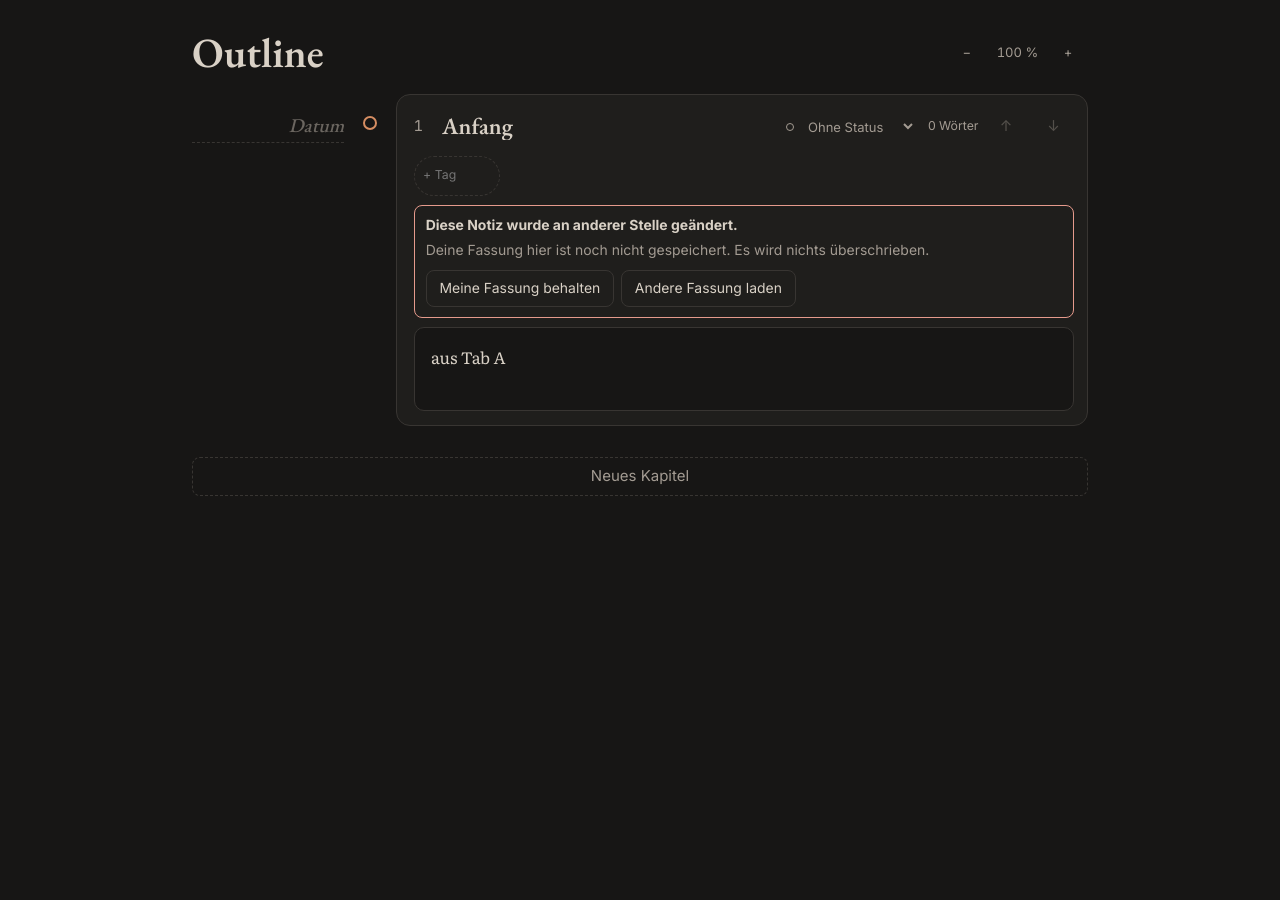
it: a note changed in another tab is never overwritten silently
The width and height of the screenshot is (1280, 900).
Expected: the field named "Notizen zu Anfang" is shown, x1=431 y1=345 x2=506 y2=369
Expected: the text "Diese Notiz wurde an anderer Stelle geändert." is shown, x1=426 y1=216 x2=738 y2=233
Click the button "Andere Fassung laden".
click(708, 288)  # box x1=621 y1=270 x2=796 y2=307
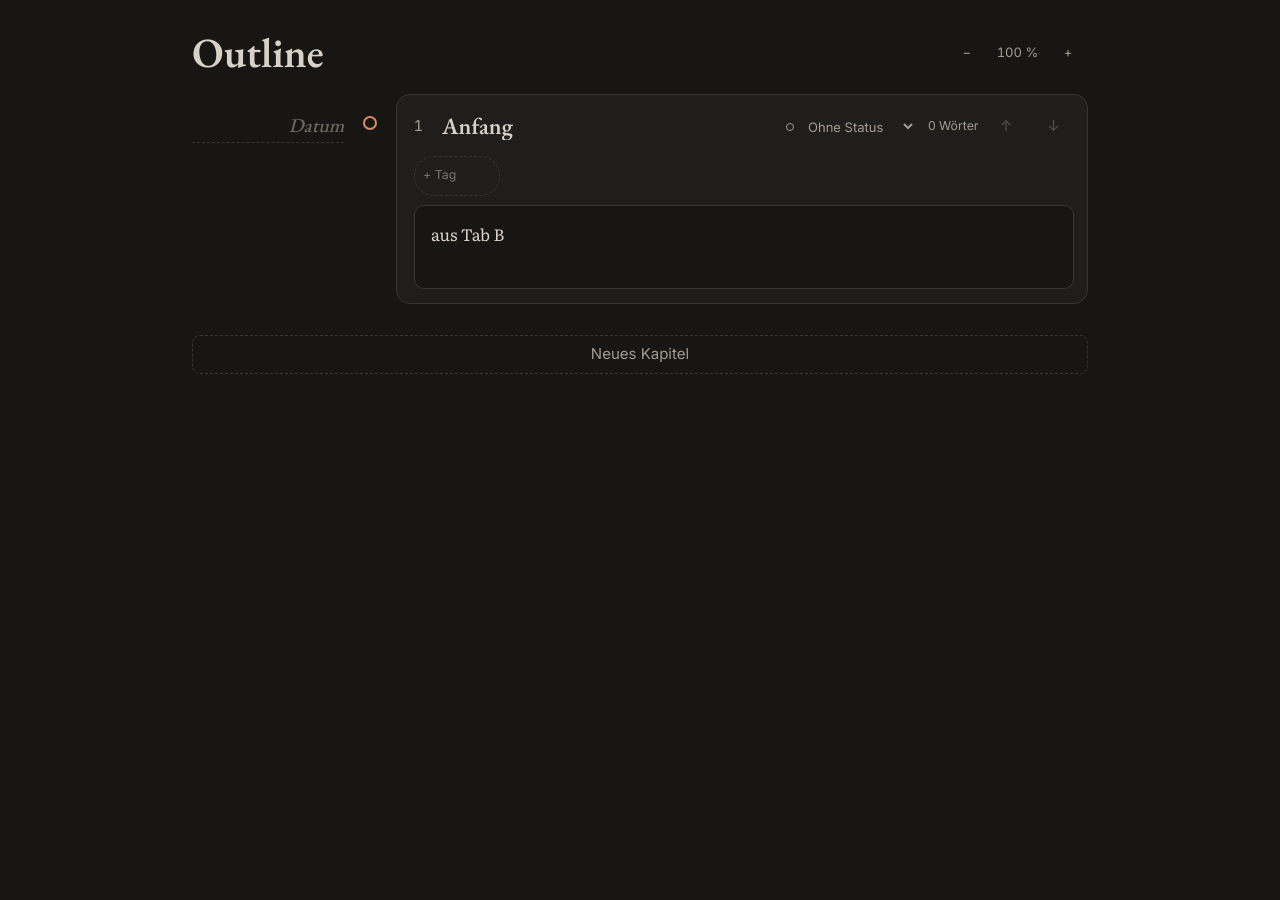
Expected: the text box labelled "aus Tab B" is shown, x1=431 y1=222 x2=504 y2=246
Expected: the text "Diese Notiz wurde an anderer Stelle geändert." is gone
